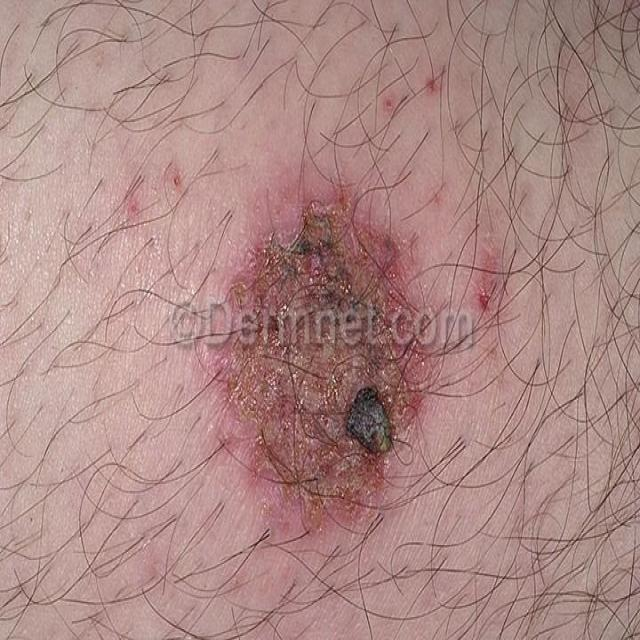Eczema: (223, 194, 429, 529)
